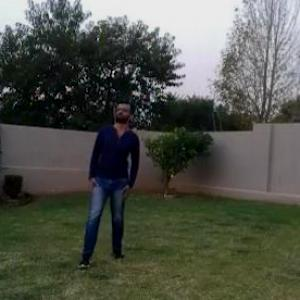follow: (84, 93, 142, 264)
